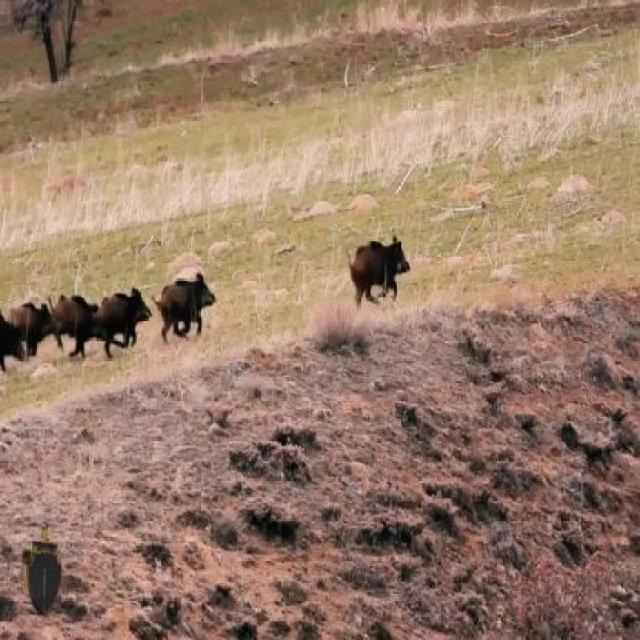pig: (168, 222, 230, 318), (356, 222, 432, 286), (112, 251, 156, 352), (11, 264, 50, 368), (58, 270, 98, 342)
